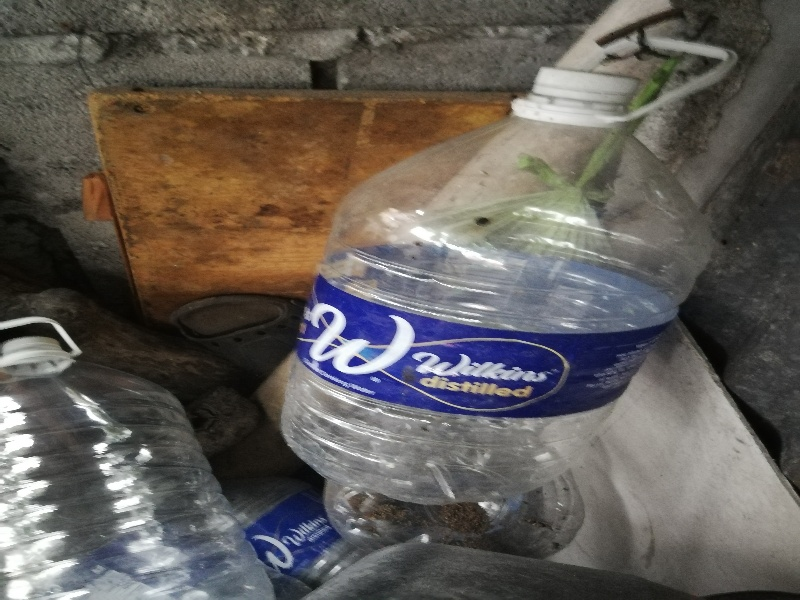PET #1: (284, 68, 699, 510), (1, 322, 273, 600)
